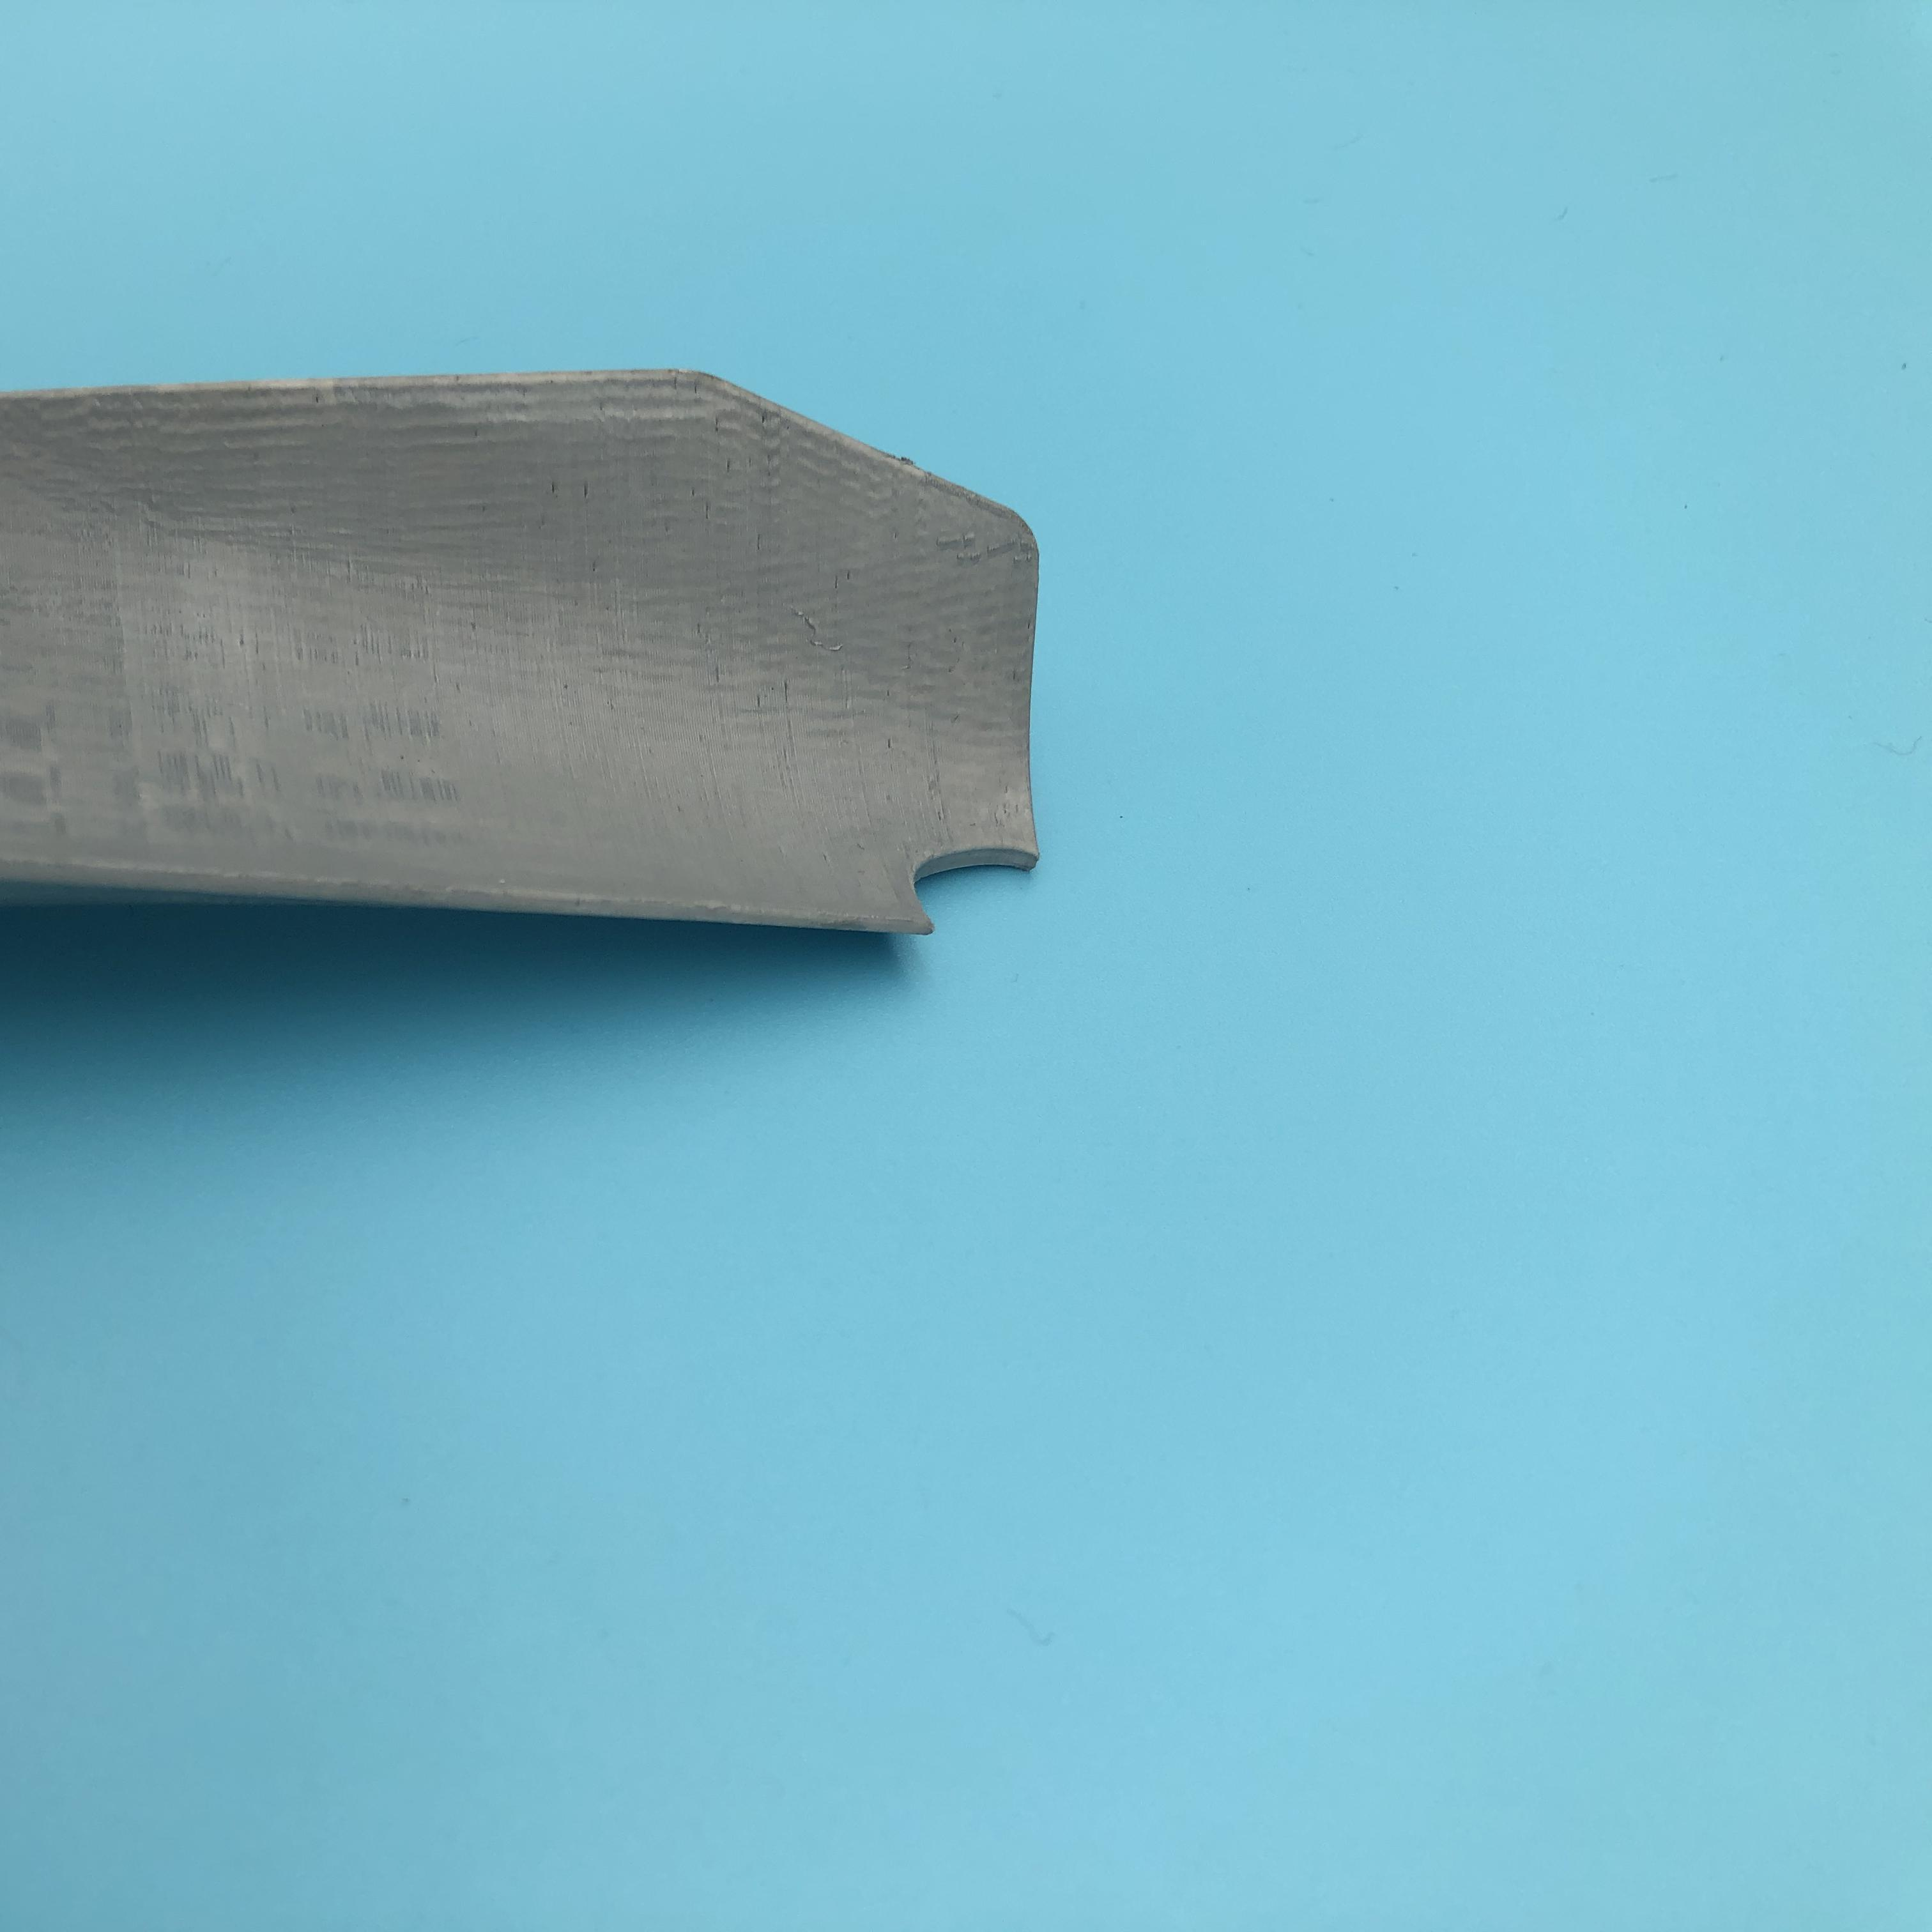fracture: (902, 824, 1044, 938)
